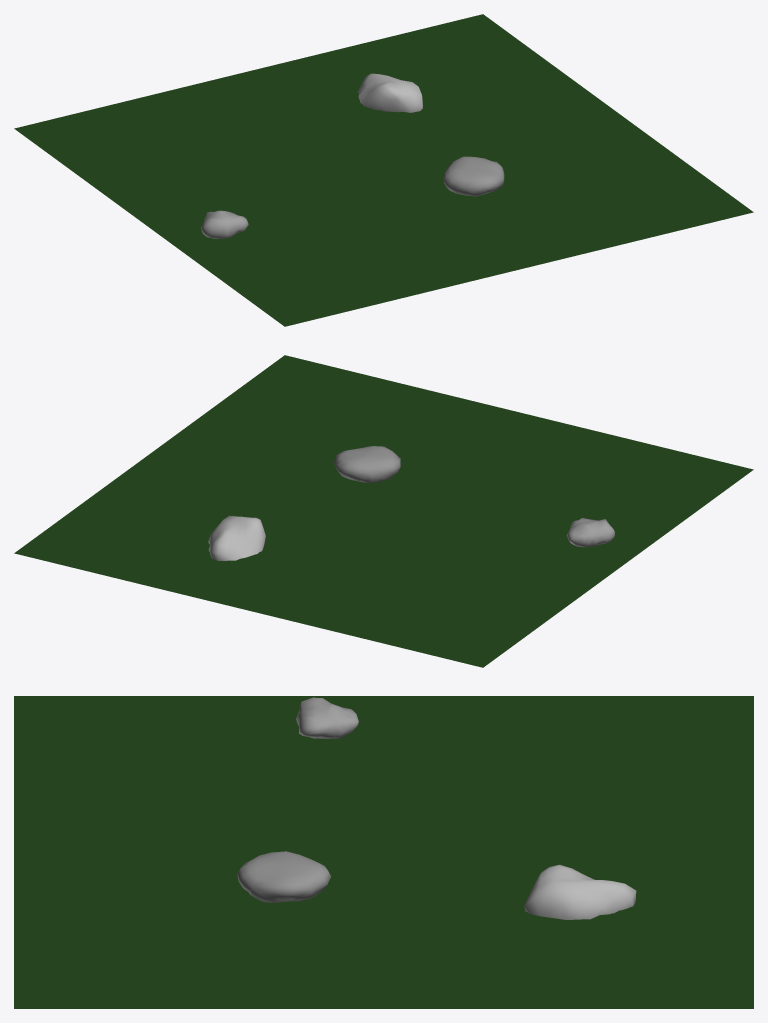
File: sol map forêt2.fbx
The picture shows the model from 3 angles, top to bottom: view 1: azimuth 30°, elevation 25°; view 2: azimuth 150°, elevation 25°; view 3: azimuth 270°, elevation 25°; orthographic projection. The views are drawn at different scales.
Parts seen in each view (by area): view 1: sol map forêt2; view 2: sol map forêt2; view 3: sol map forêt2.
Boxes of the visible parts, bbox=[...] form: sol map forêt2: bbox=[14, 14, 753, 326]; sol map forêt2: bbox=[14, 355, 753, 667]; sol map forêt2: bbox=[14, 696, 753, 1008].
Bounding box in the file's own units: 200 × 19.35 × 200.
